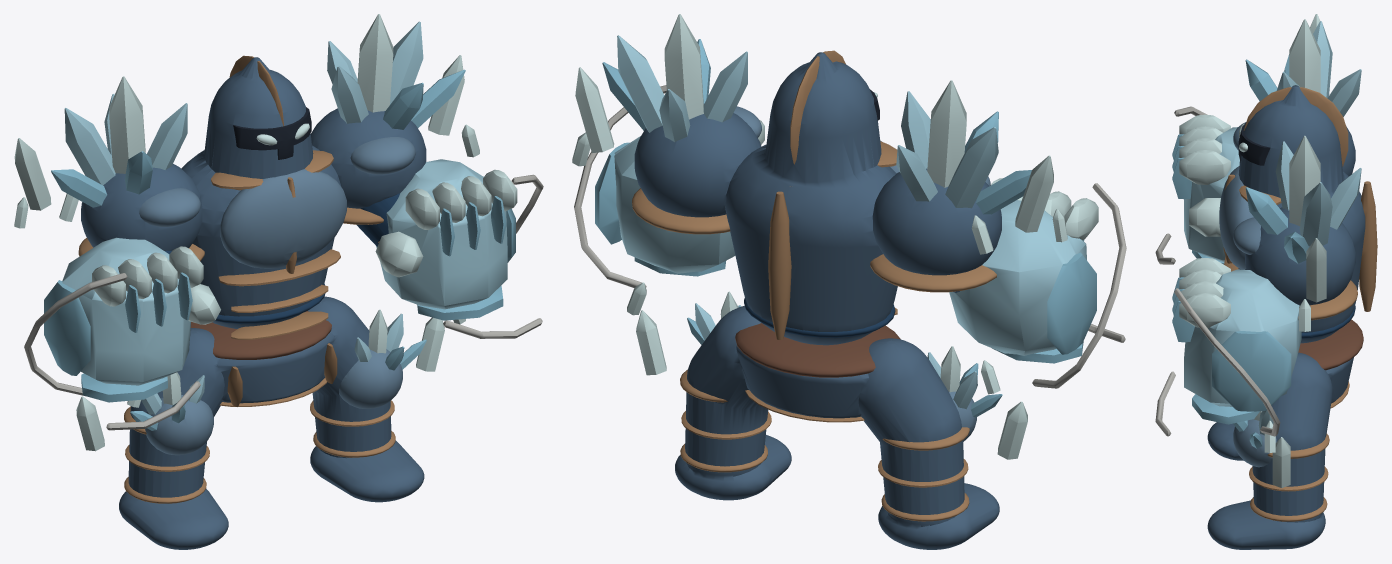
Rendered from glaciarm.glb.
3 renders of one model, left to right at view 1: azimuth 30°, elevation 25°; view 2: azimuth 150°, elevation 25°; view 3: azimuth 270°, elevation 25°, orthographic. The views are drawn at different scales.
Parts seen in each view (by area): view 1: creature; view 2: creature; view 3: creature.
Boxes of the visible parts, x1,y1,x2,y2 form: creature: (14, 14, 543, 549); creature: (572, 14, 1126, 549); creature: (1155, 14, 1377, 549).
Size of the model in its own units: 1.17 by 1 by 0.4791.
